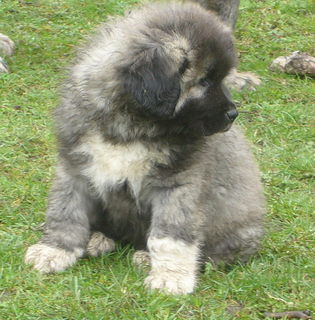cau_ovcharka: (22, 1, 266, 299)
